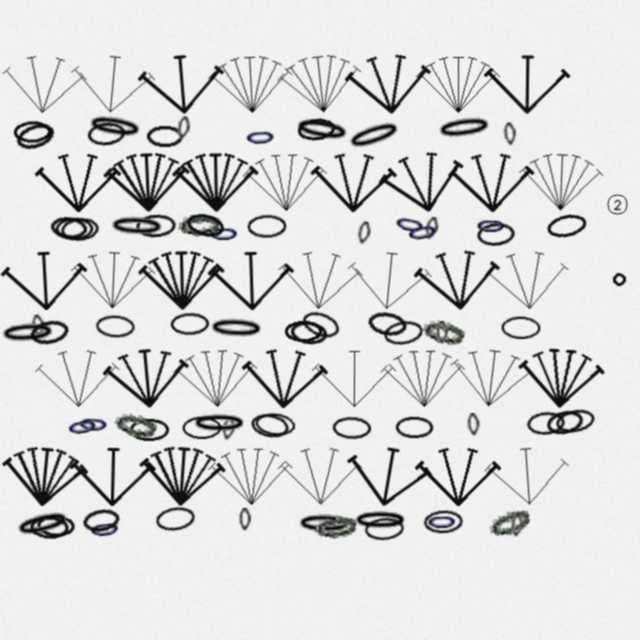chain: (344, 116, 405, 155), (13, 506, 73, 542), (85, 111, 145, 143), (292, 114, 352, 146), (435, 113, 494, 143), (486, 504, 533, 541), (299, 307, 343, 342), (13, 119, 57, 153), (0, 320, 57, 346), (108, 214, 166, 239), (208, 316, 265, 341), (296, 512, 353, 536), (421, 317, 466, 347), (113, 410, 158, 440), (184, 210, 227, 241), (191, 412, 248, 435), (352, 509, 409, 532), (313, 512, 358, 541), (545, 211, 588, 241), (554, 406, 597, 436), (28, 317, 70, 347), (544, 407, 586, 437), (382, 318, 425, 347), (154, 504, 197, 533), (366, 309, 408, 338), (249, 411, 291, 440), (81, 506, 122, 535), (177, 211, 221, 238), (254, 411, 296, 438), (86, 120, 127, 147), (296, 116, 337, 143), (289, 319, 329, 346), (364, 516, 405, 542), (392, 210, 428, 239), (49, 215, 89, 241), (60, 216, 100, 242), (476, 221, 516, 247), (526, 410, 566, 436), (135, 213, 176, 238), (95, 314, 135, 339), (423, 509, 463, 534), (405, 218, 440, 246), (247, 214, 287, 238), (36, 514, 76, 538), (29, 515, 69, 539), (65, 413, 100, 440), (13, 120, 52, 144), (170, 312, 209, 336), (332, 416, 371, 440), (501, 316, 541, 339), (129, 418, 169, 441), (182, 416, 222, 439), (55, 217, 94, 240), (284, 320, 323, 343), (395, 416, 434, 439), (88, 516, 122, 542), (146, 125, 184, 148), (244, 125, 277, 149), (77, 412, 110, 436), (208, 222, 240, 245), (475, 214, 507, 237), (426, 510, 458, 533), (423, 216, 440, 241), (356, 221, 372, 245), (176, 116, 191, 140), (31, 314, 46, 338), (221, 417, 236, 441), (503, 122, 517, 146), (510, 514, 524, 537), (467, 413, 480, 436), (436, 321, 448, 344), (239, 508, 251, 531)
fan: (373, 140, 472, 222), (340, 435, 437, 515), (444, 339, 539, 414), (273, 45, 367, 120), (342, 242, 436, 316), (66, 46, 159, 119), (135, 46, 228, 119), (342, 46, 435, 119), (411, 242, 504, 315), (100, 340, 193, 413), (0, 438, 91, 512), (274, 243, 366, 315), (481, 243, 573, 315), (515, 341, 607, 412), (136, 439, 228, 510), (481, 439, 573, 510), (0, 47, 90, 119), (205, 48, 296, 118), (170, 342, 261, 412), (239, 342, 330, 412), (0, 244, 90, 314), (102, 146, 192, 215), (516, 146, 606, 215), (68, 244, 158, 313), (240, 147, 330, 215), (206, 245, 296, 313), (378, 343, 468, 411), (309, 147, 398, 215), (447, 147, 536, 215), (33, 343, 122, 411), (68, 441, 157, 509), (206, 441, 295, 509), (171, 147, 260, 214), (137, 245, 226, 312), (483, 49, 571, 116), (276, 441, 364, 508), (414, 50, 502, 116), (34, 148, 122, 214), (310, 344, 398, 410), (414, 442, 502, 508)
noise: (605, 192, 630, 217), (612, 272, 627, 287)
